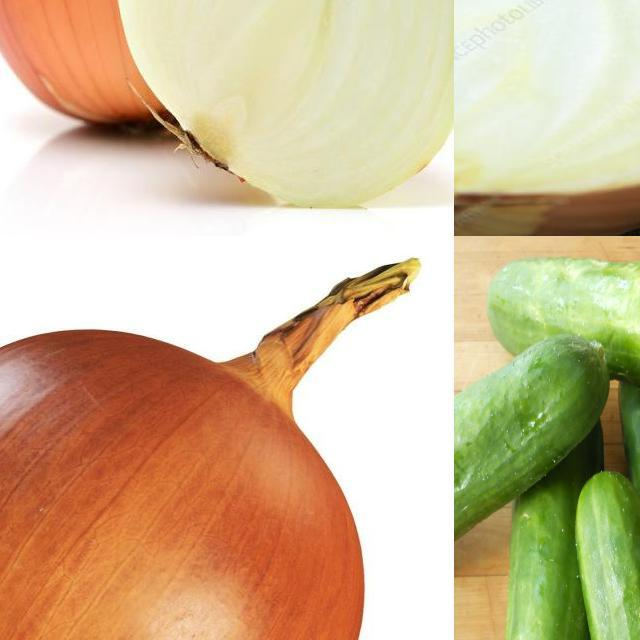cucumber: (455, 334, 609, 594), (501, 420, 606, 640), (488, 261, 640, 382), (576, 474, 640, 640)
onion: (1, 244, 430, 640), (116, 1, 455, 206), (455, 1, 640, 237), (1, 1, 268, 134)
